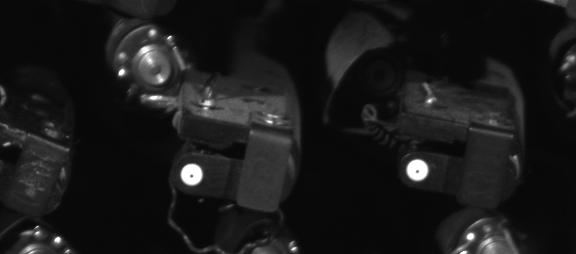fiber: (177, 159, 205, 192), (402, 157, 434, 185)
